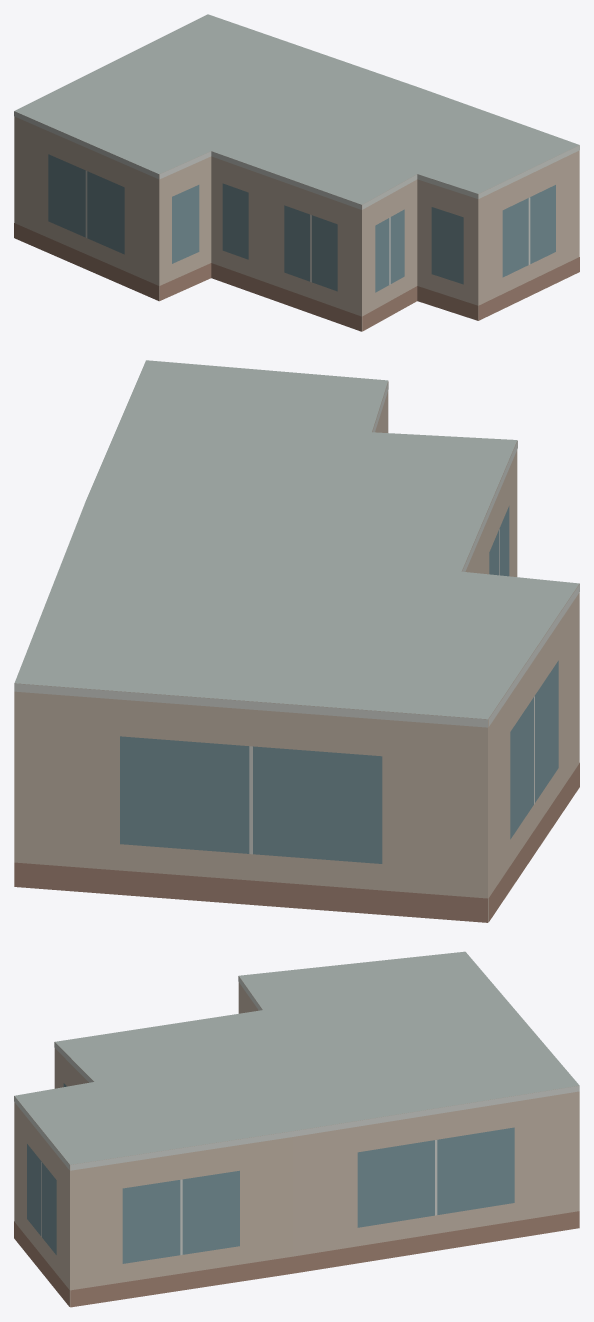
Rendered from survey-upis-32618707.glb.
3 renders of one model, top to bottom at view 1: azimuth 30°, elevation 25°; view 2: azimuth 150°, elevation 25°; view 3: azimuth 270°, elevation 25°, orthographic. The views are drawn at different scales.
Visible parts, largest first — view 1: survey-upis-32618707.tmp; view 2: survey-upis-32618707.tmp; view 3: survey-upis-32618707.tmp.
Boxes of the visible parts, x1,y1,x2,y2 form: survey-upis-32618707.tmp: [14, 14, 579, 331]; survey-upis-32618707.tmp: [14, 360, 579, 922]; survey-upis-32618707.tmp: [14, 951, 579, 1307].
Bounding box in the file's own units: 9.81 × 3.05 × 10.98.
